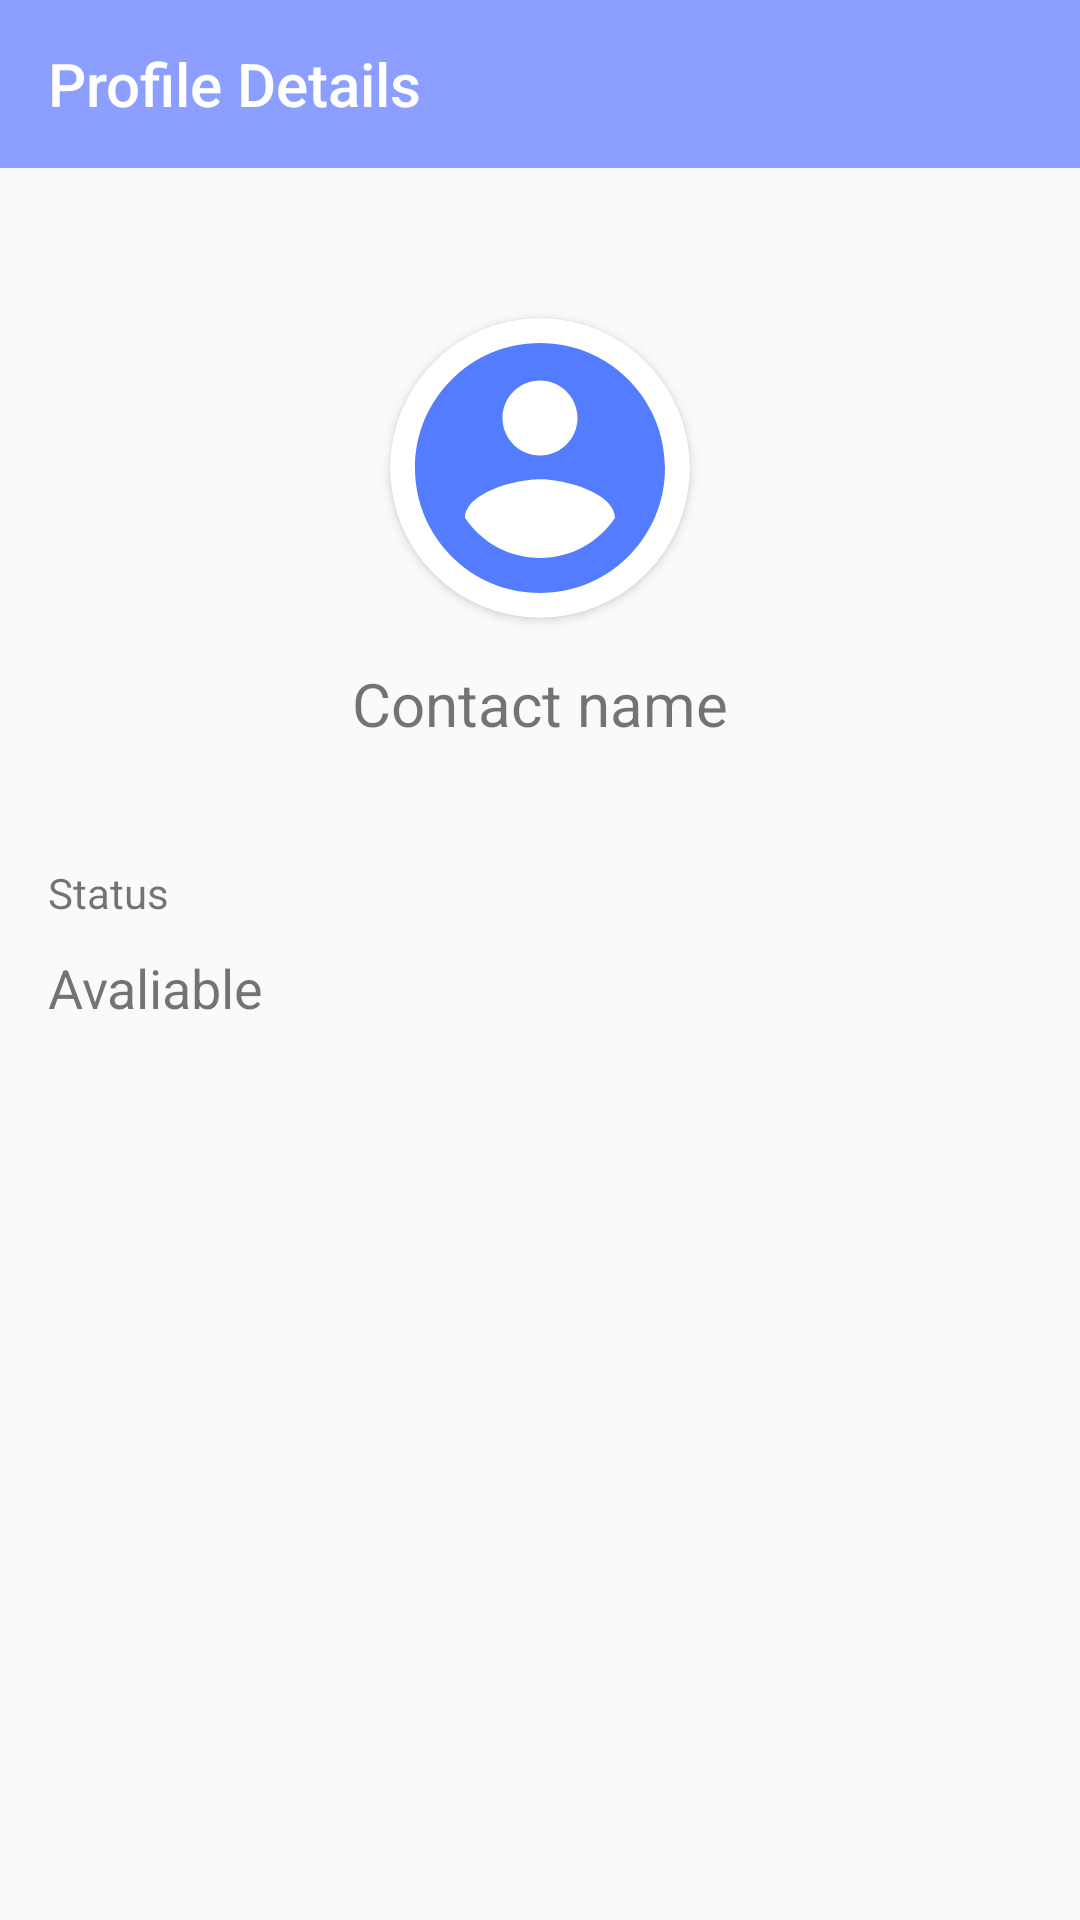

Icons on this 1080*1920 Android screen, each with the point to tap as (x,y):
account circle: (540,480)
